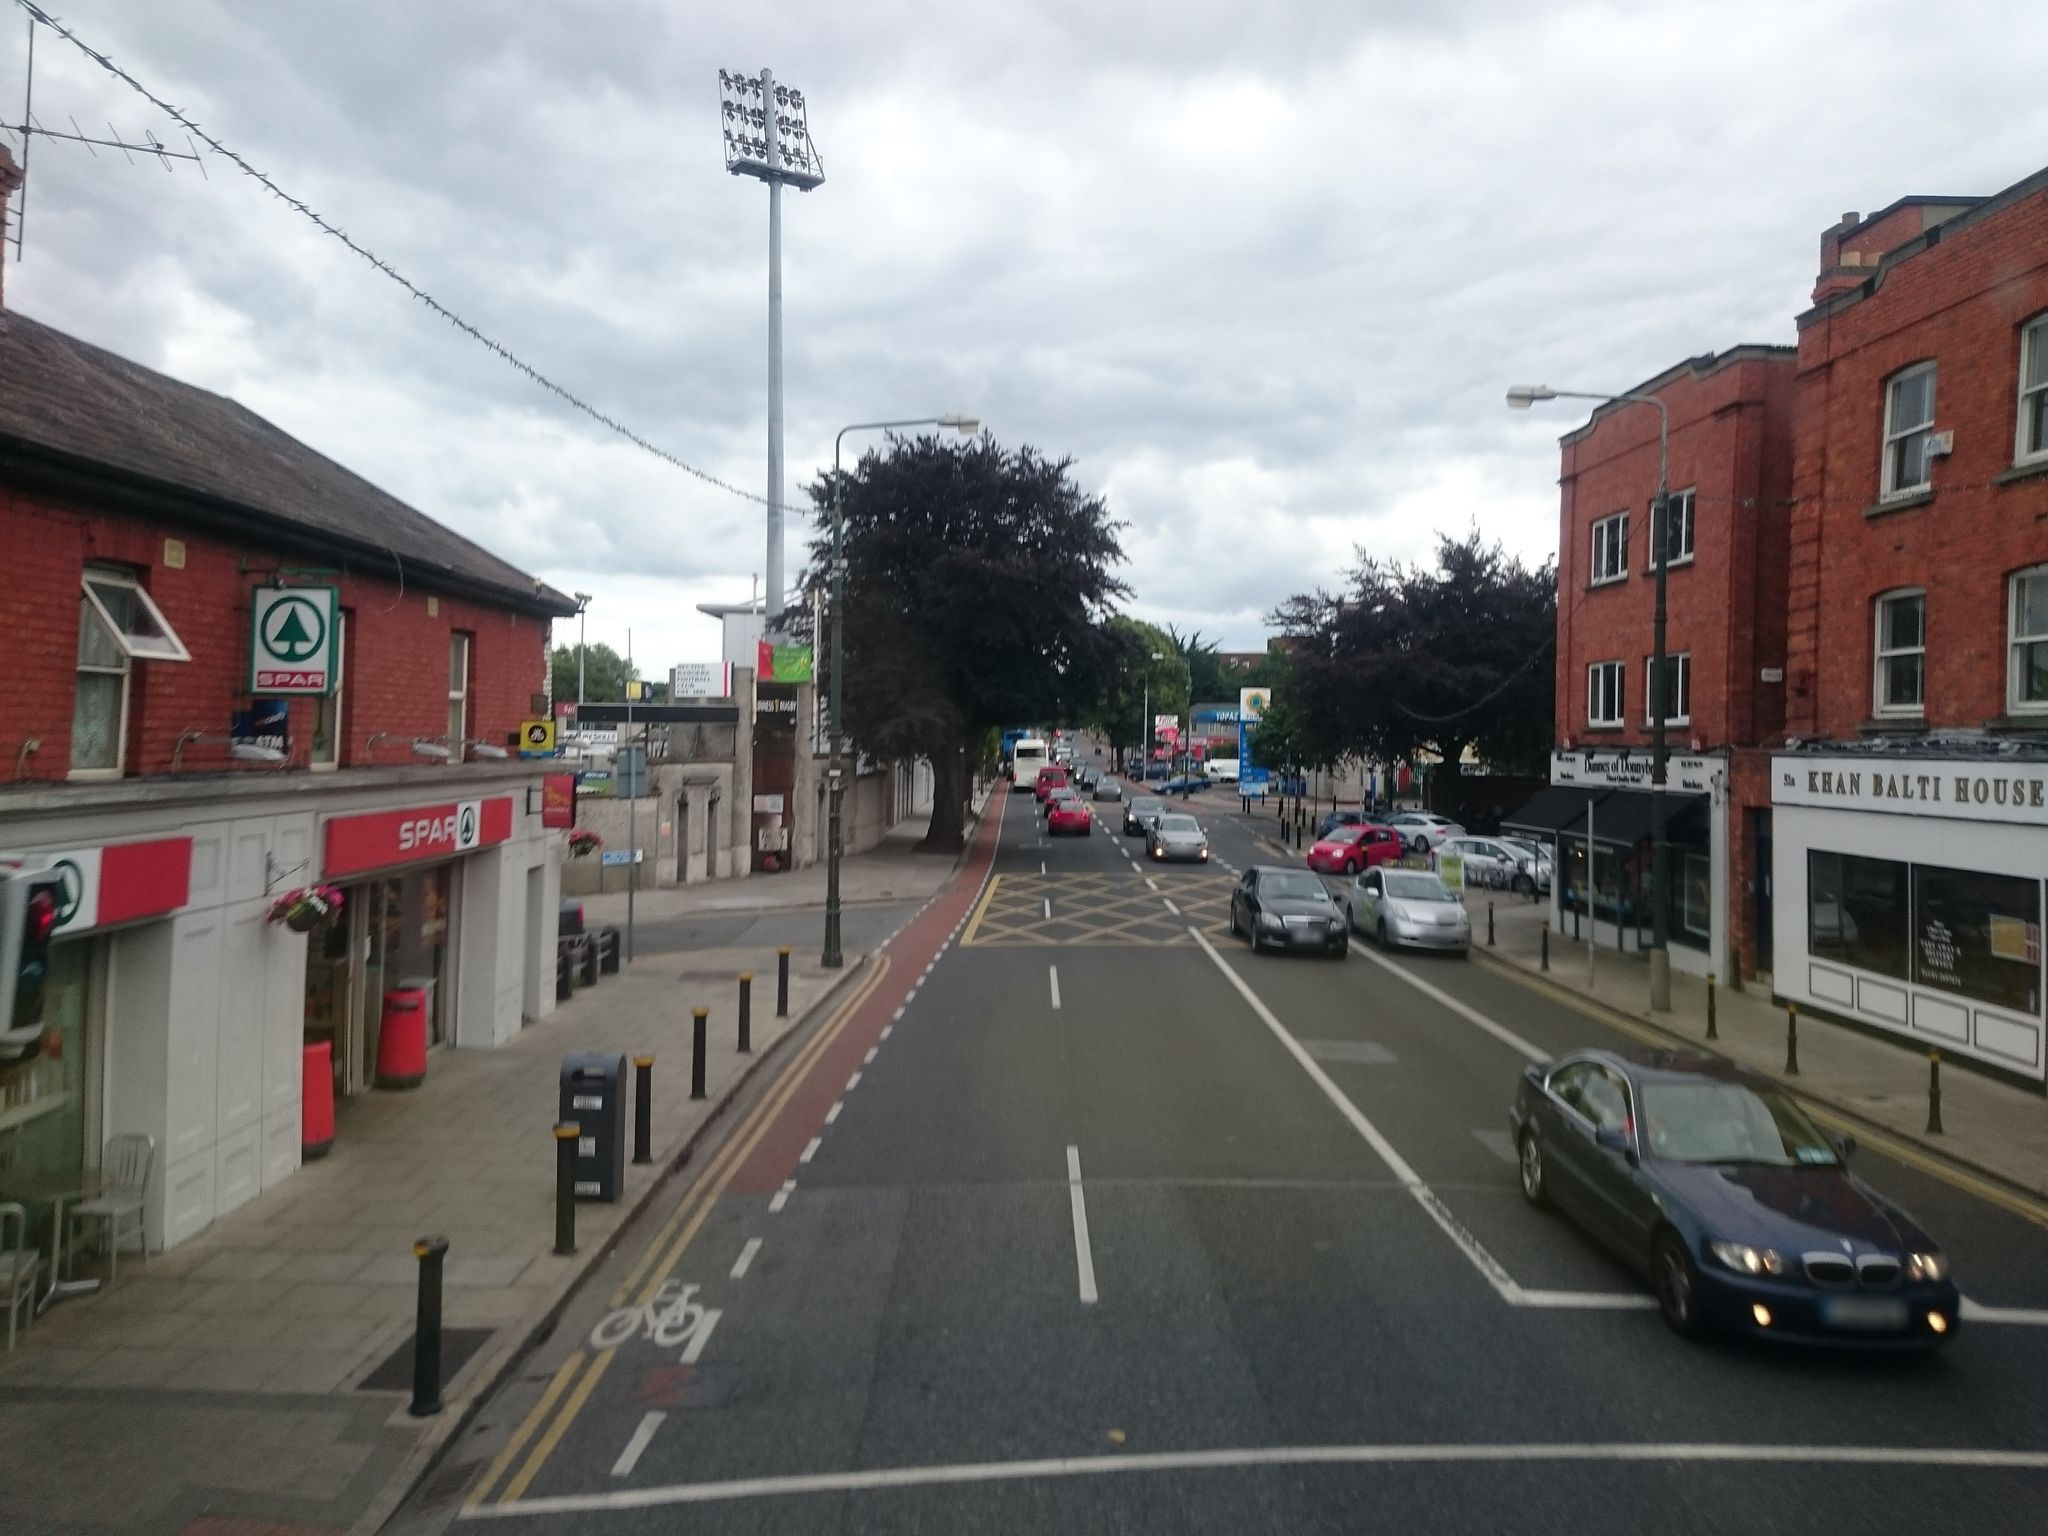vinyl banner: (747, 626, 826, 691)
